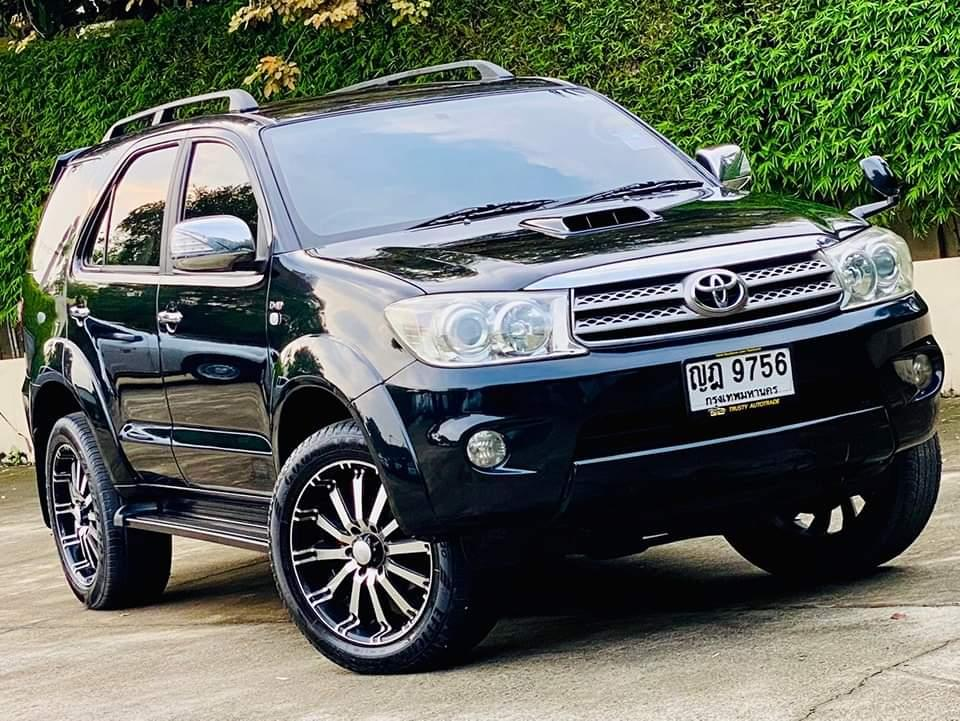license-plate: (681, 344, 796, 418)
